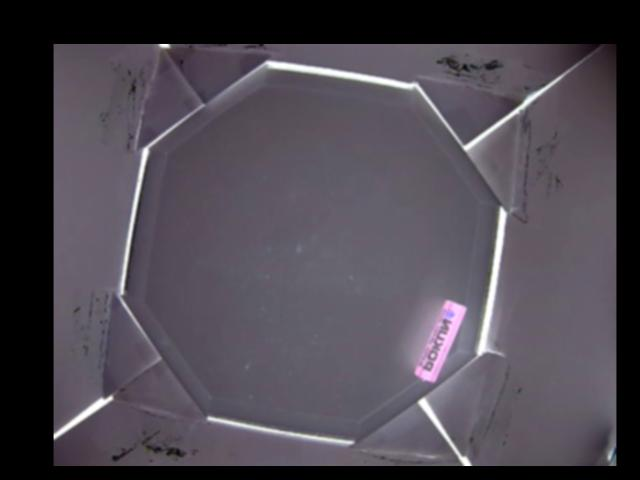Battery: (414, 299, 465, 384)
